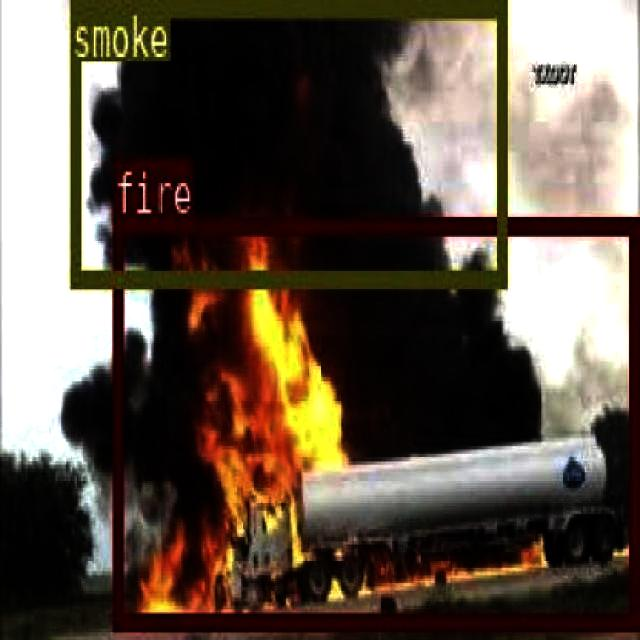fire: (112, 216, 636, 624)
smoke: (70, 0, 504, 286)
